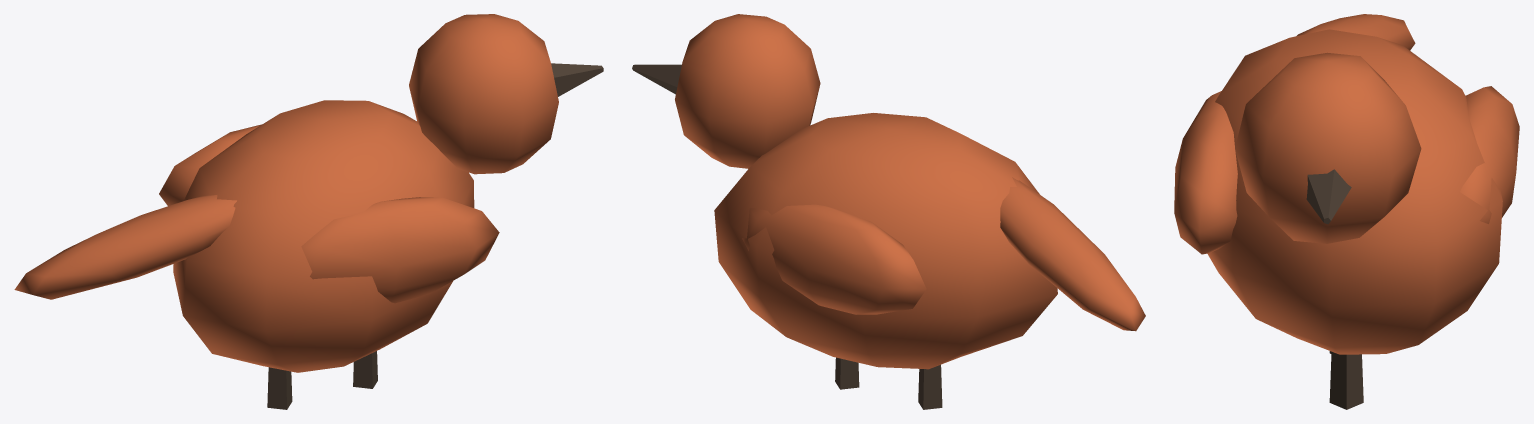
Rendered from prop-bird.glb.
3 renders of one model, left to right at view 1: azimuth 30°, elevation 25°; view 2: azimuth 150°, elevation 25°; view 3: azimuth 270°, elevation 25°, orthographic. The views are drawn at different scales.
Parts seen in each view (by area): view 1: prop-bird; view 2: prop-bird; view 3: prop-bird.
Boxes of the visible parts, bbox=[...] form: prop-bird: bbox=[14, 14, 603, 409]; prop-bird: bbox=[632, 14, 1145, 409]; prop-bird: bbox=[1174, 14, 1519, 409].
Size of the model in its own units: 0.1549 by 0.0918 by 0.0709.
